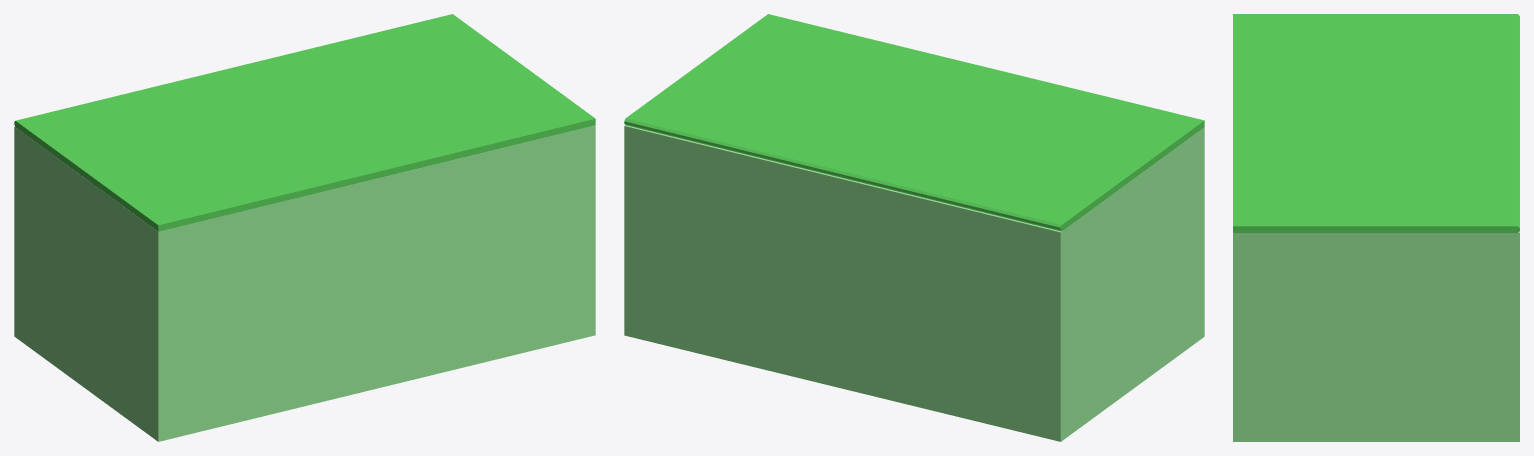
3 views of the same model, side by side, from view 1: azimuth 30°, elevation 25°; view 2: azimuth 150°, elevation 25°; view 3: azimuth 270°, elevation 25° (orthographic).
Parts seen in each view (by area): view 1: Box_005, Box_005_1_; view 2: Box_005, Box_005_1_; view 3: Box_005_1_, Box_005.
Part boxes in pixels (x1,y1,x2,y2): Box_005: (14,125,595,441); Box_005_1_: (14,14,595,231); Box_005: (624,125,1204,441); Box_005_1_: (624,14,1204,231); Box_005_1_: (1233,14,1519,232); Box_005: (1233,231,1519,441).
Size of the model in its own units: 44.92 by 21.26 by 25.64.
